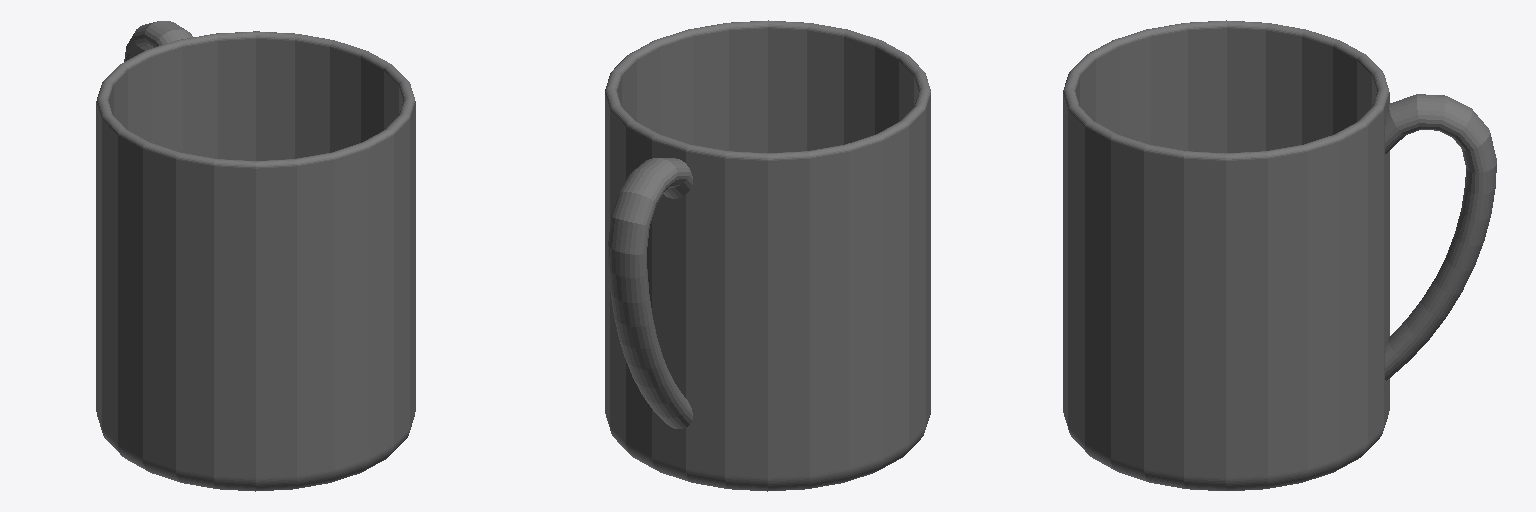
URDF robot description (object):
<?xml version="1.0"?>
<robot name="object">
  <link name="object">
    <visual>
      <origin xyz="0 0 0"/>
      <geometry>
        <mesh
          filename="../../mesh/oakink_virtual/mug_s147.stl" />
      </geometry>
      <material name="mat">
        <color rgba="0.5 0.5 0.5 1"/>
      </material>
    </visual>

    <collision>
      <origin xyz="0 0 0"/>
      <geometry>
        <mesh
          filename="../../mesh/oakink_virtual/mug_s147.stl" />
      </geometry>
    </collision>
  </link>
</robot>

--- What the picture shows (computed from the rendered views, not written in the file) ---
The picture shows the robot from 3 angles, left to right: view 1: azimuth 30°, elevation 25°; view 2: azimuth 150°, elevation 25°; view 3: azimuth 270°, elevation 25°; orthographic projection.
Model object with 1 links and 0 joints (none), rooted at object, posed every joint at zero.
Links seen in each view (by area): view 1: object; view 2: object; view 3: object.
Boxes of the visible links, bbox=[...] form: object: bbox=[96, 21, 415, 491]; object: bbox=[605, 20, 930, 491]; object: bbox=[1063, 20, 1496, 490].
Bounding box of the posed robot: 0.0796 × 0.1058 × 0.0915 m (x, y, z).
Meshes: 1 distinct files referenced, 1 mesh visuals loaded (1 binary STL).
